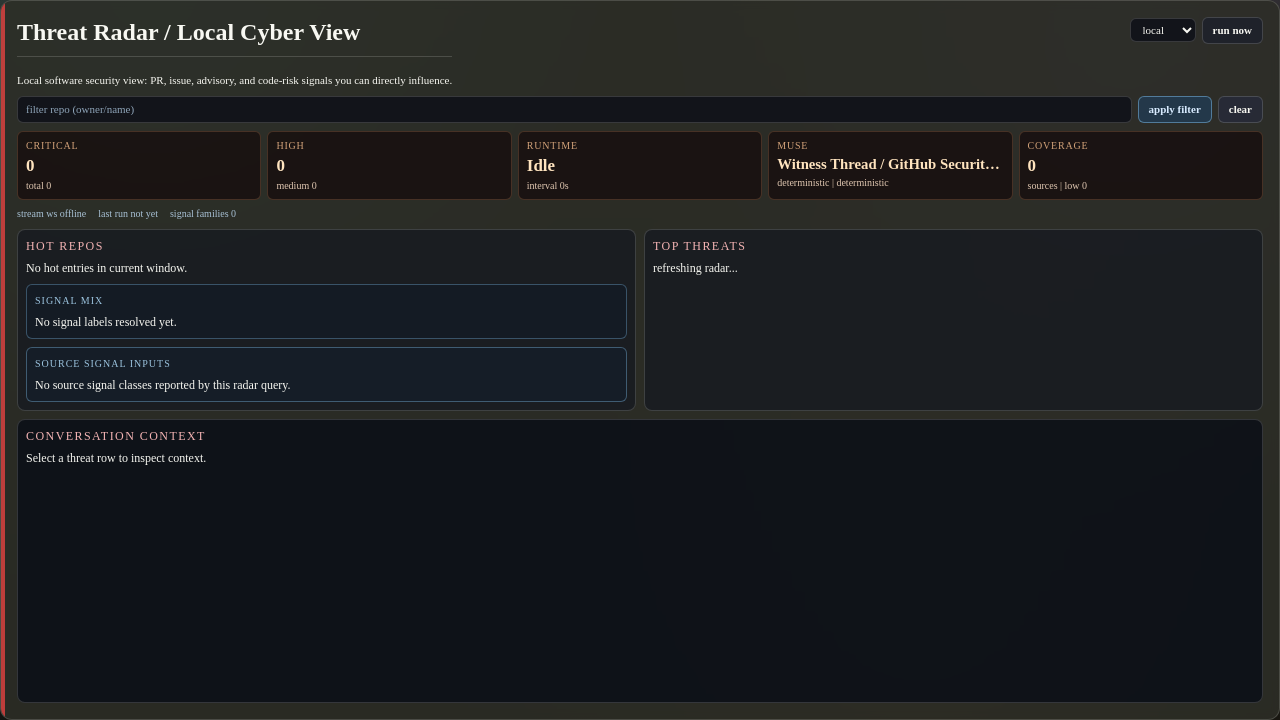
Test: ThreatRadarPanel › shows source signal classes when global threats are empty
Step 1. Select "global" in the dropdown → x=1163, y=30, box [1130,18,1196,42]
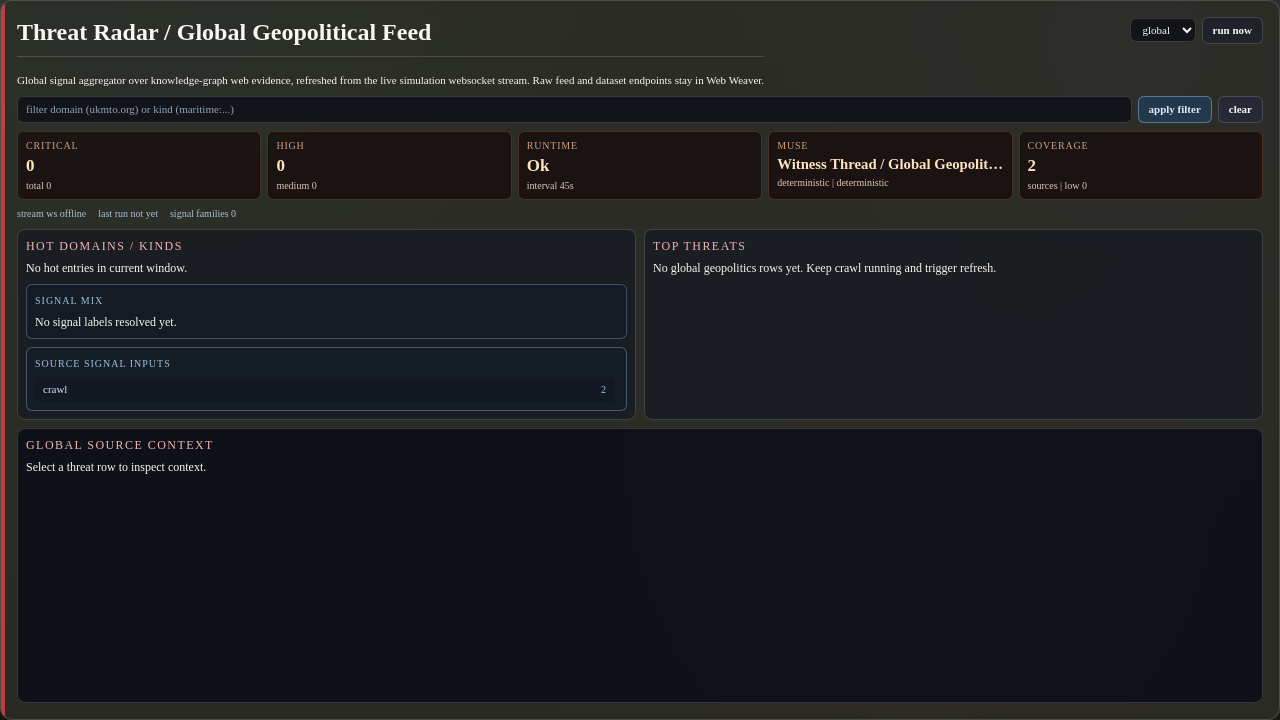
Expected: the text "source signal inputs" is shown, [35,358,171,369]
Result: the text "crawl" is shown at [43,381,67,398]
